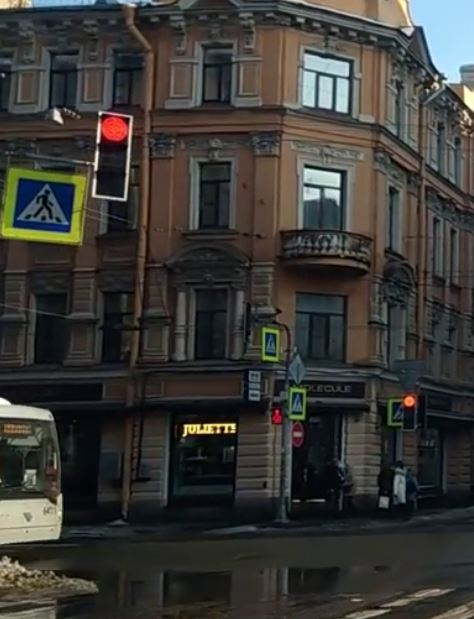Yaya Gecidi: (16, 179, 75, 235)
